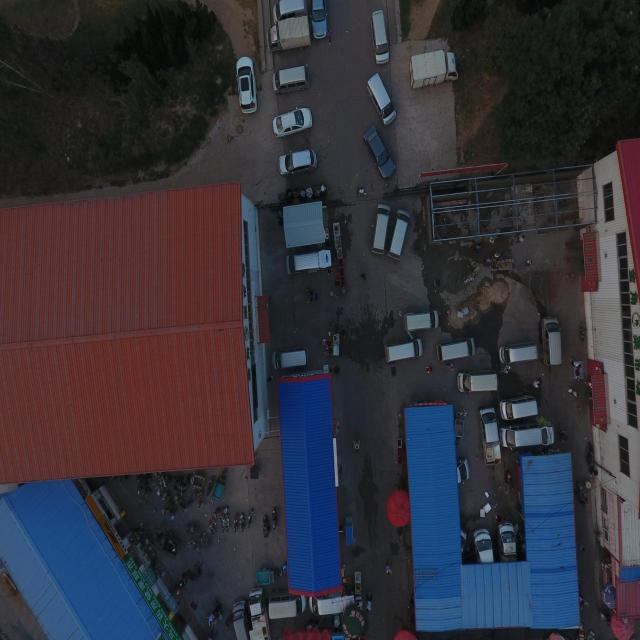p3rson: (572, 538, 586, 550), (208, 608, 217, 626), (205, 628, 218, 640), (579, 593, 588, 609), (213, 600, 221, 617), (499, 212, 512, 221), (574, 613, 584, 624), (573, 594, 583, 604), (557, 429, 566, 440), (628, 631, 638, 640), (570, 359, 580, 368), (516, 234, 525, 243), (386, 559, 391, 575), (366, 594, 371, 610), (577, 628, 585, 638), (326, 28, 331, 44), (531, 378, 539, 388), (358, 186, 364, 198), (499, 365, 508, 373), (569, 388, 578, 396), (446, 362, 454, 370), (424, 366, 432, 374), (585, 380, 592, 389), (353, 439, 359, 449), (474, 243, 482, 250), (310, 293, 318, 300), (352, 599, 358, 608), (359, 273, 366, 280), (410, 594, 414, 606), (492, 252, 500, 258), (267, 374, 273, 382), (489, 235, 494, 244), (473, 250, 481, 255), (484, 257, 492, 262), (145, 537, 150, 544), (327, 268, 332, 274), (579, 636, 586, 640), (575, 638, 579, 640)
